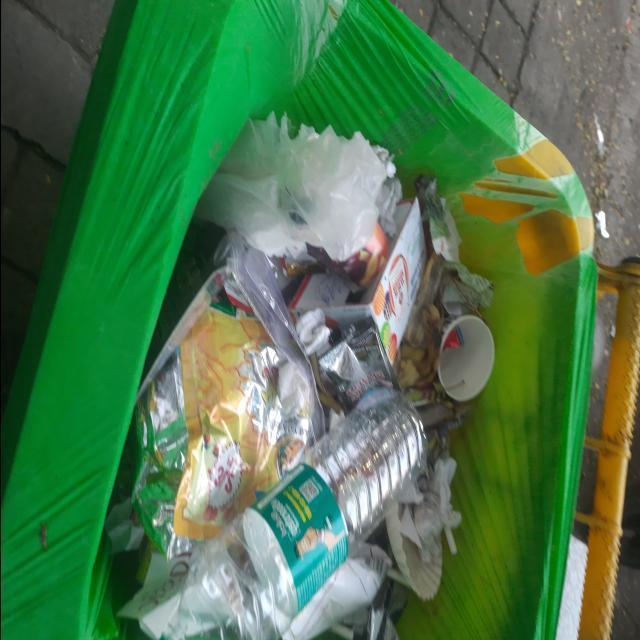Garbage: (100, 113, 492, 640)
Plastic_Bag: (195, 113, 394, 265), (352, 362, 356, 365)
Plastic_bottle: (161, 388, 425, 638)
Plastic_wraper: (131, 232, 324, 557), (281, 543, 390, 640), (316, 318, 398, 412), (280, 257, 325, 277), (442, 327, 464, 352)
Tetrapack: (290, 198, 426, 363)
